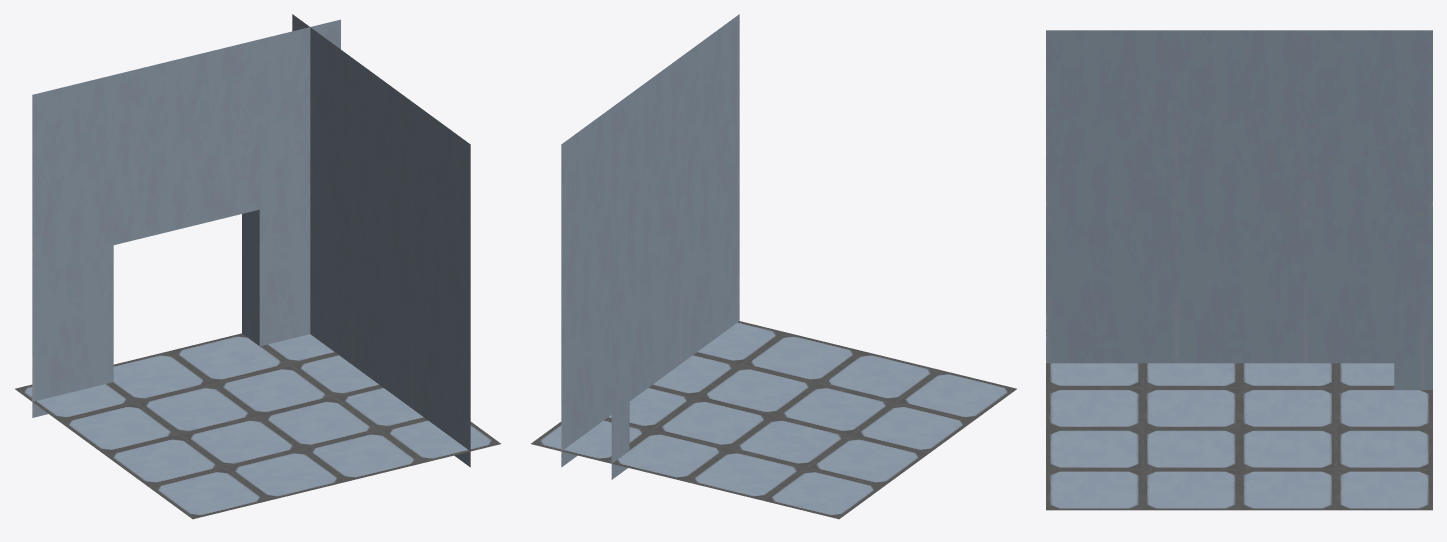
The model's file is Room_MTN_Door_End_2.glb.
3 renders of one model, left to right at view 1: azimuth 30°, elevation 25°; view 2: azimuth 150°, elevation 25°; view 3: azimuth 270°, elevation 25°, orthographic. The views are drawn at different scales.
Parts seen in each view (by area): view 1: Room_MTN_Door_End_2; view 2: Room_MTN_Door_End_2; view 3: Room_MTN_Door_End_2.
Part boxes in pixels (left/top/right/bottom): Room_MTN_Door_End_2: left=15, top=14, right=500, bottom=519; Room_MTN_Door_End_2: left=531, top=14, right=1016, bottom=519; Room_MTN_Door_End_2: left=1046, top=30, right=1432, bottom=510.
Size of the model in its own units: 4 by 4 by 4.
Materials: 2 (2 with a texture image).
